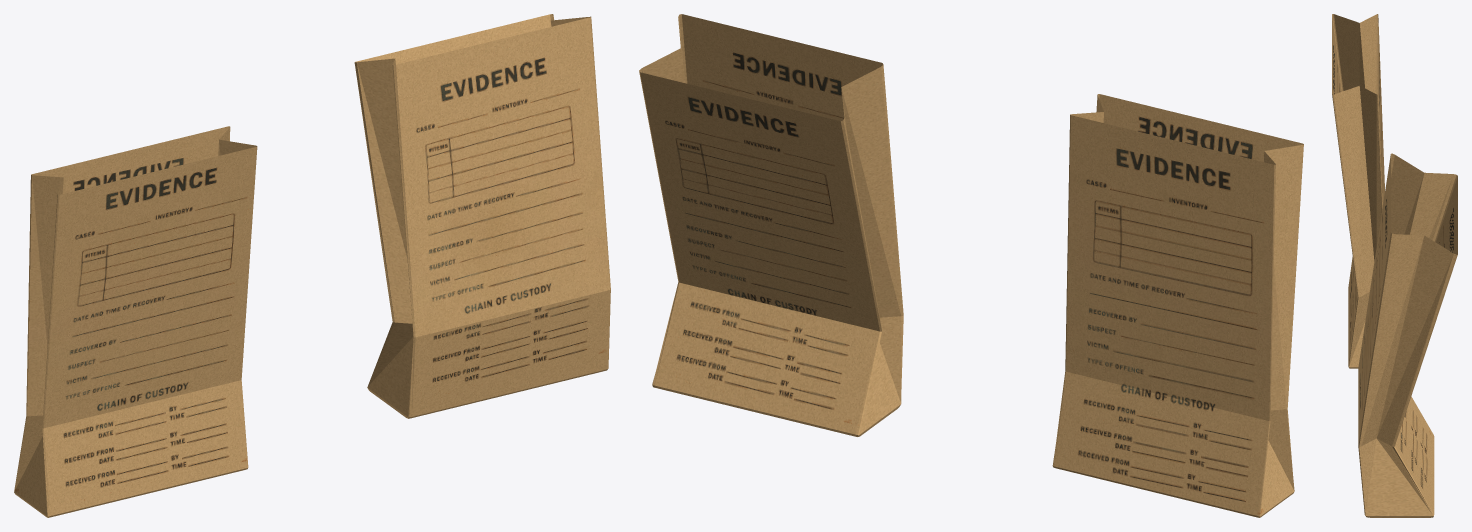
File: Evidence bag.fbx
3 renders of one model, left to right at view 1: azimuth 30°, elevation 25°; view 2: azimuth 150°, elevation 25°; view 3: azimuth 270°, elevation 25°, orthographic. The views are drawn at different scales.
Parts seen in each view (by area): view 1: BaG, BAG; view 2: BaG, BAG; view 3: BaG, BAG.
Boxes of the visible parts, x1,y1,x2,y2 form: BaG: (354,14,610,418); BAG: (14,126,257,517); BaG: (639,14,903,436); BAG: (1052,94,1303,517); BaG: (1358,153,1457,517); BAG: (1332,14,1384,368).
Size of the model in its own units: 10.14 by 5.85 by 2.34.
1 material, 1 textured.
